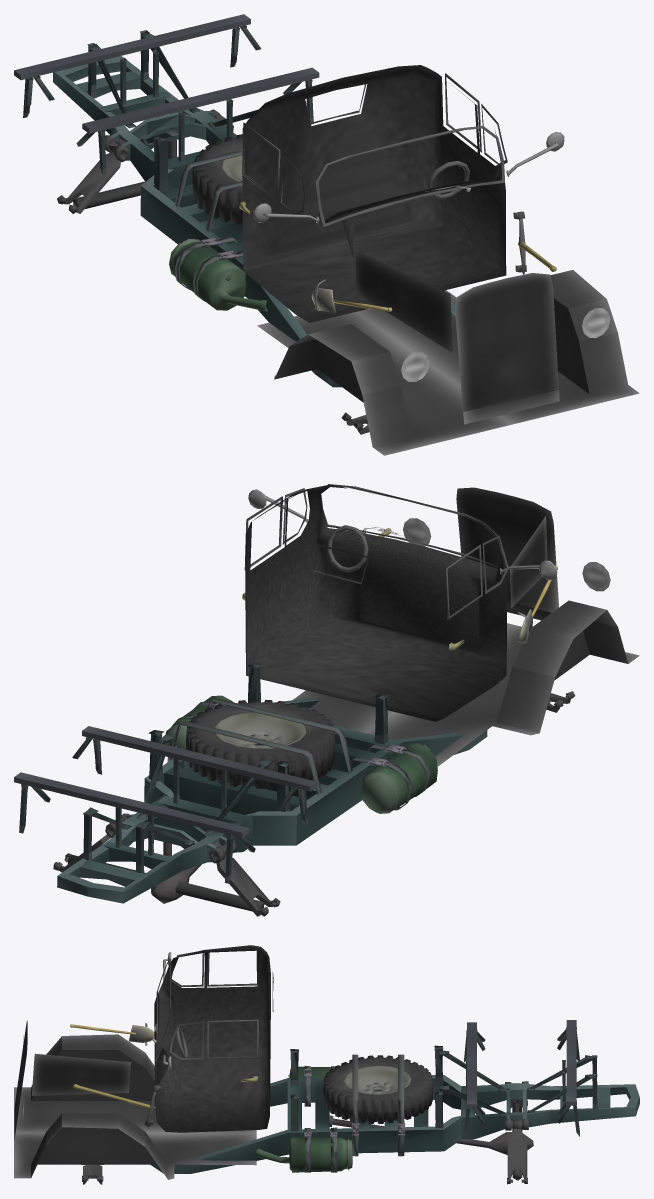
File: OT_interior_d2.obj
3 renders of one model, top to bottom at view 1: azimuth 30°, elevation 25°; view 2: azimuth 150°, elevation 25°; view 3: azimuth 270°, elevation 25°, orthographic. The views are drawn at different scales.
Parts seen in each view (by area): view 1: OT_interior; view 2: OT_interior; view 3: OT_interior.
Part boxes in pixels (left/top/right/bottom): OT_interior: left=14, top=14, right=639, bottom=455; OT_interior: left=14, top=484, right=639, bottom=916; OT_interior: left=14, top=945, right=639, bottom=1184.
Bounding box in the file's own units: 2.36 × 1.85 × 5.64.
Materials: 1 (1 with a texture image).
